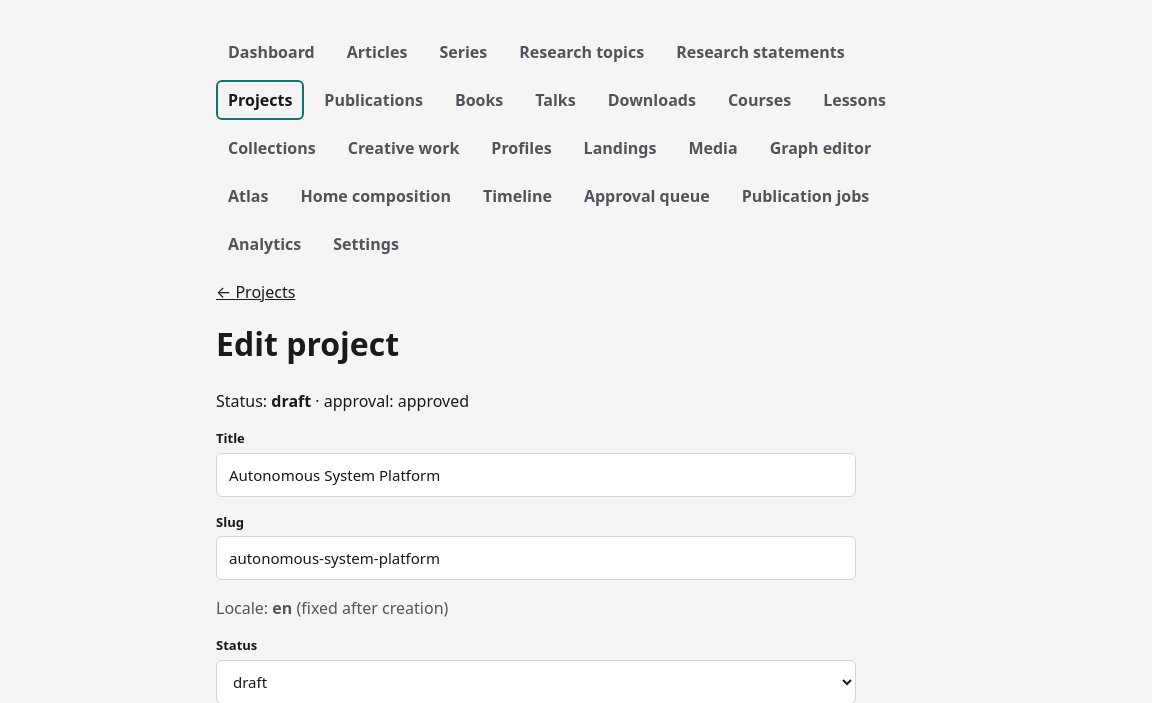
Scenario: PU-25 component journeys with mocked HTTP (not live E2E) › saves edited draft through the real client, then publishes only after confirmation and server acknowledgment
Replace the text in the field showing "Autonomous System Platform" with "Synthetic revised project". click: (536, 475)
box: [216,453,856,497]
(page scrolled)
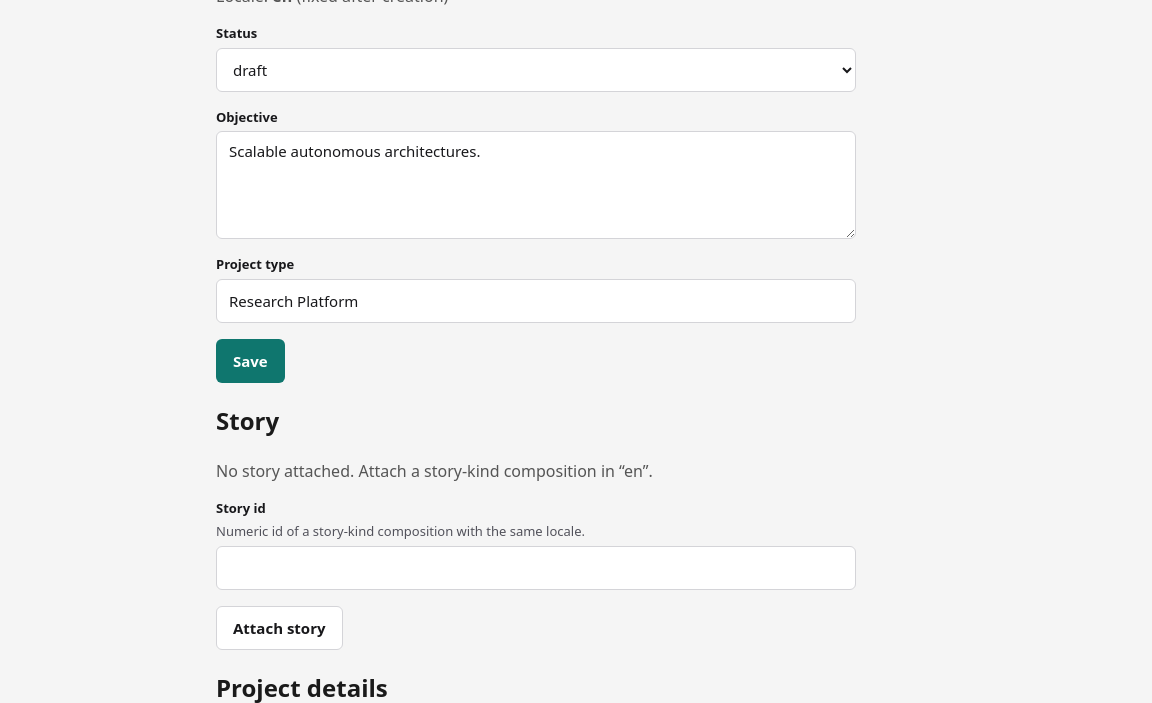
Click the button "Save". click: (250, 361)
box: [216,339,285,383]
(page scrolled)
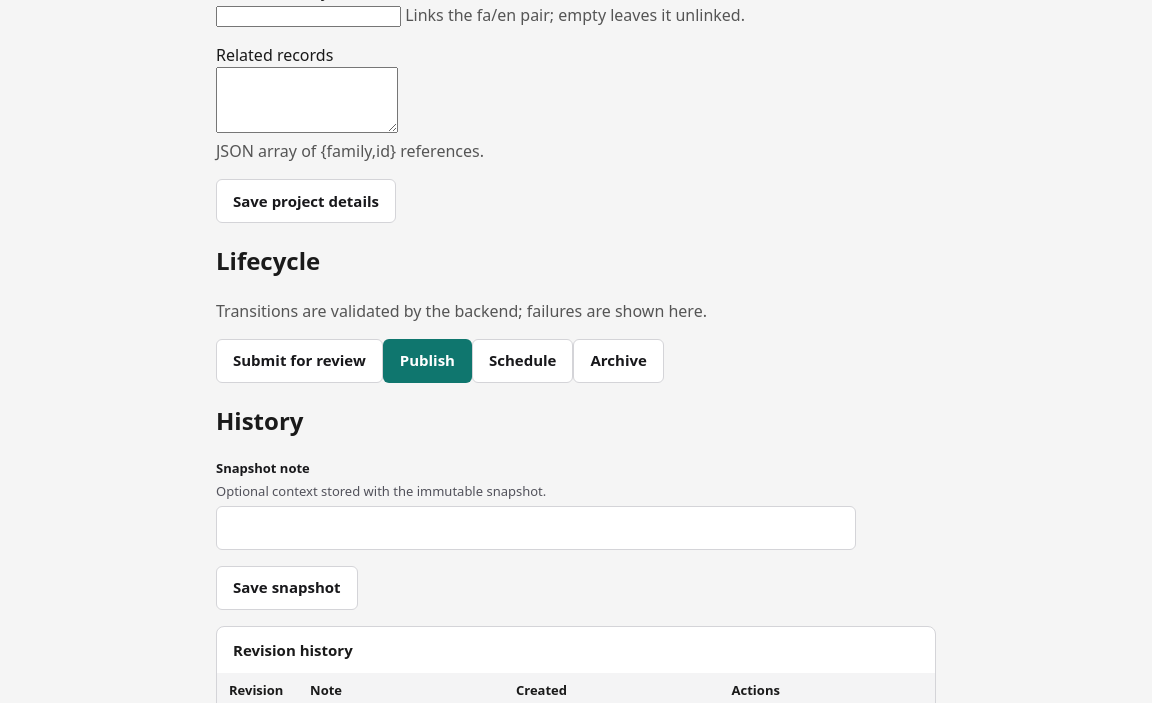
Click the button "Publish". click: (427, 361)
box: [383,339,472,383]
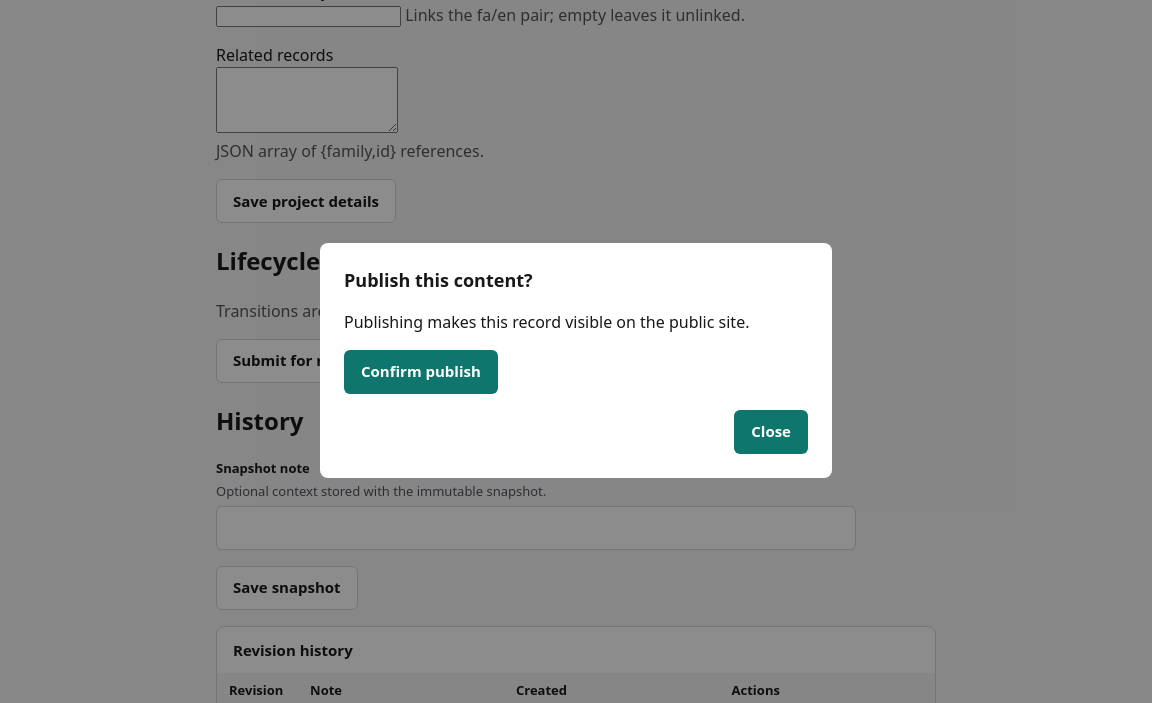
Expected: the dialog "Publish this content?" is shown, [320,242,832,478]
Click the button "Confirm publish". click: (421, 372)
box: [344,350,498,394]
(page scrolled)
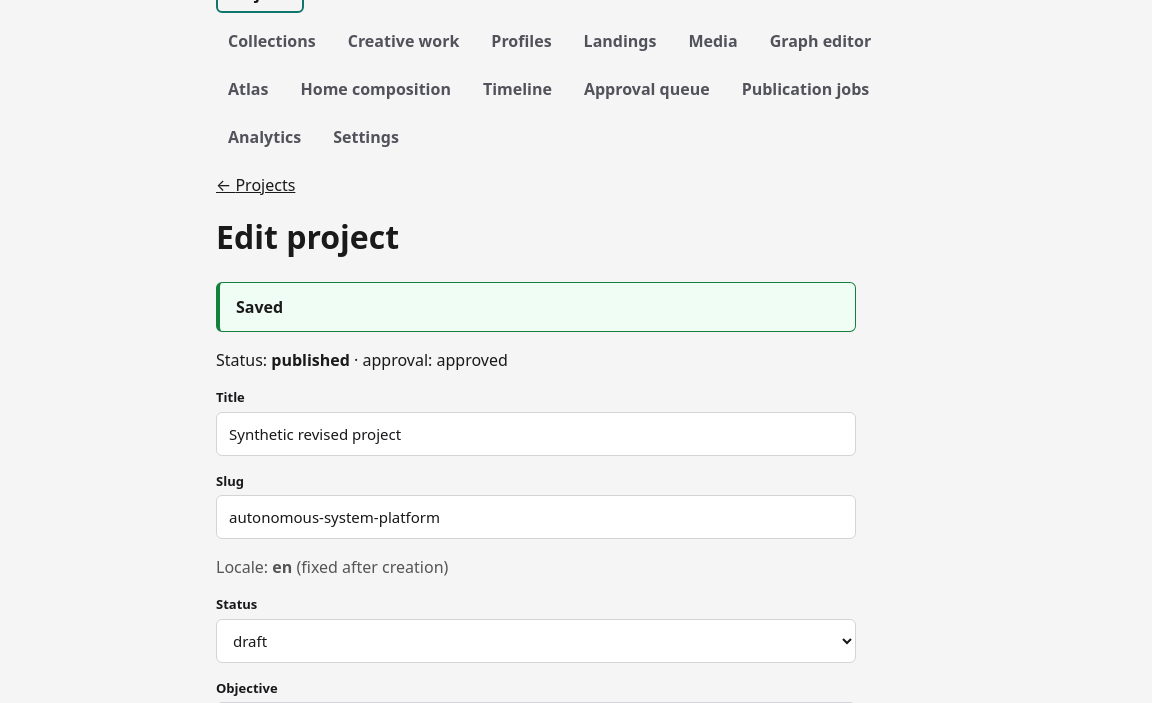
Expected: the dialog is gone
Expected: the text "published" is shown, [271,349,350,371]
